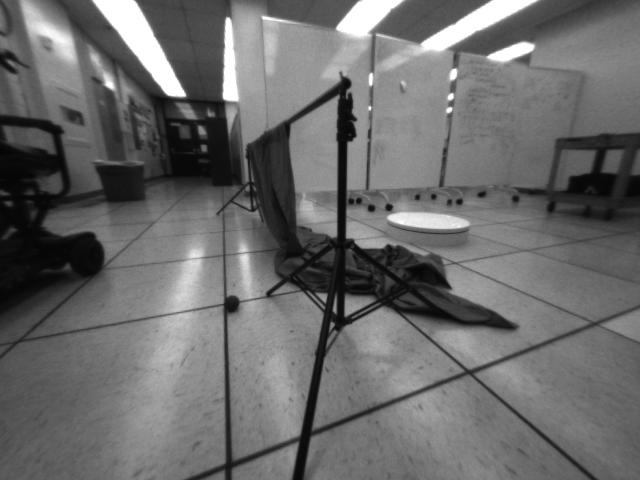dogtoy: (217, 291, 248, 316)
